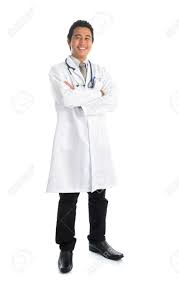asian_male: (63, 14, 99, 60)
